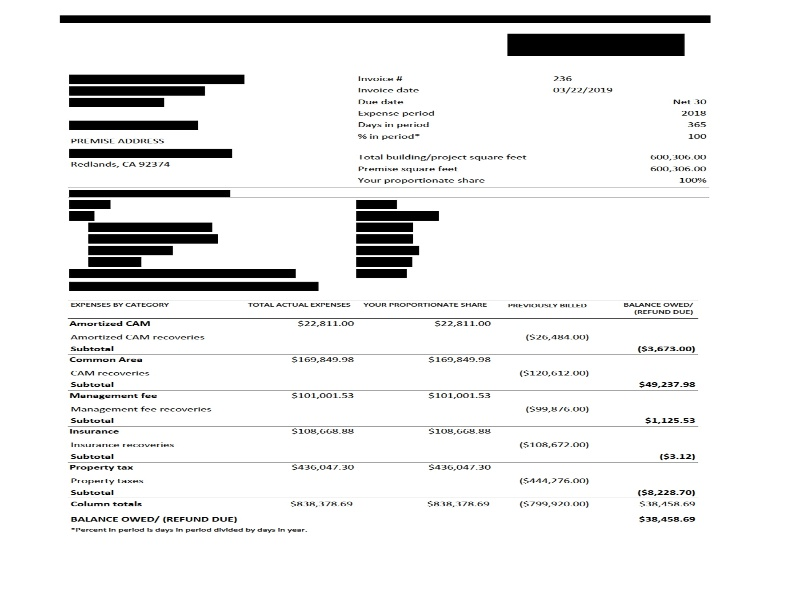table: (66, 297, 701, 540), (355, 72, 715, 187)
